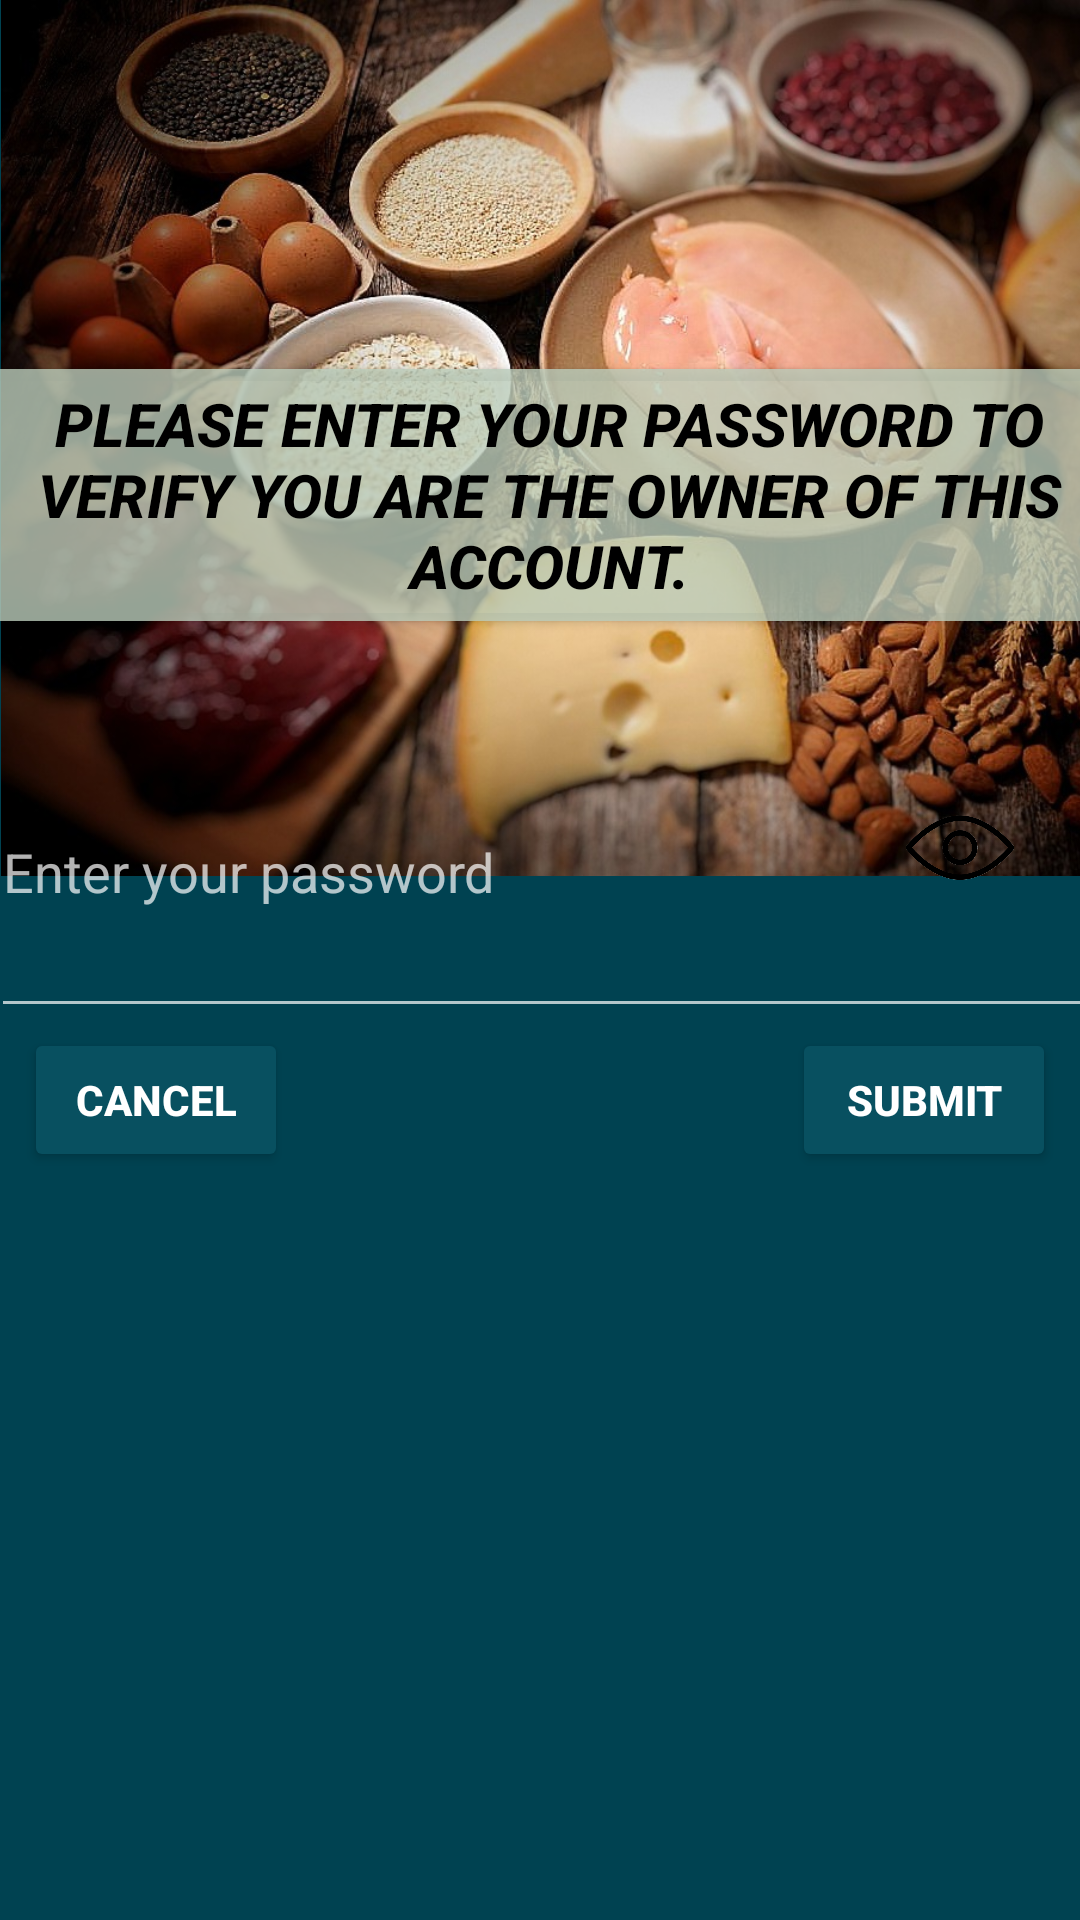

Named icons in this screenshot (1080 x 1920) and their centers, (x=x, y=y):
See Password: (x=960, y=846)
